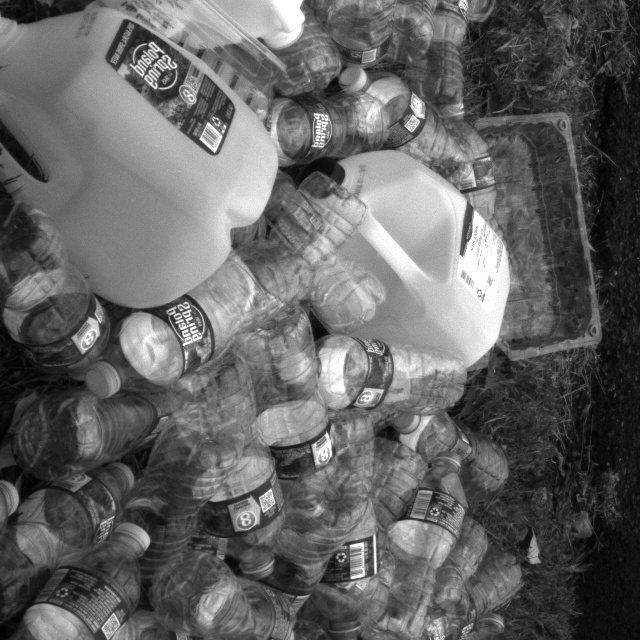bottle: (348, 451, 490, 640), (0, 213, 125, 426), (103, 267, 266, 423), (181, 349, 282, 563), (291, 416, 383, 640), (129, 545, 309, 640), (289, 325, 483, 413), (0, 535, 143, 640), (315, 463, 397, 640), (247, 97, 352, 169)
can: (0, 0, 294, 283), (273, 137, 521, 371), (77, 0, 326, 80)
container: (455, 80, 640, 345), (90, 0, 297, 123)
